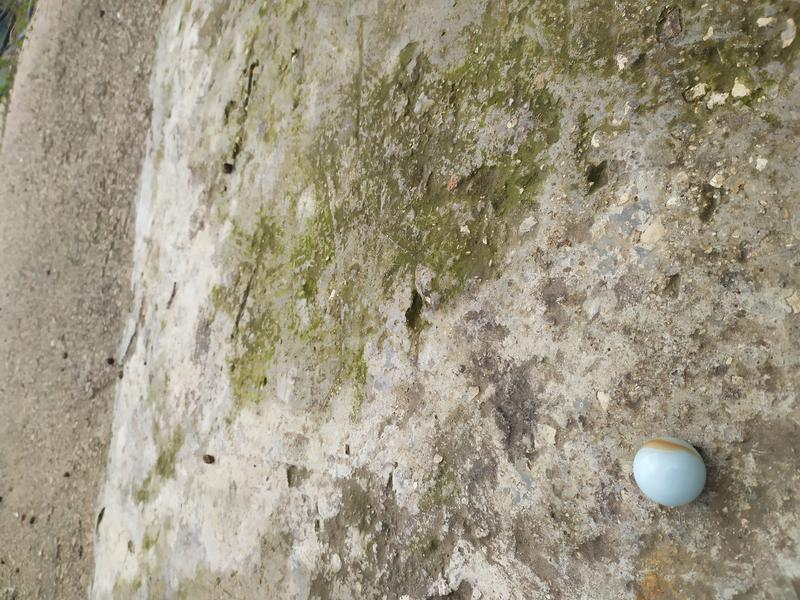Warning: (630, 433, 710, 509)
